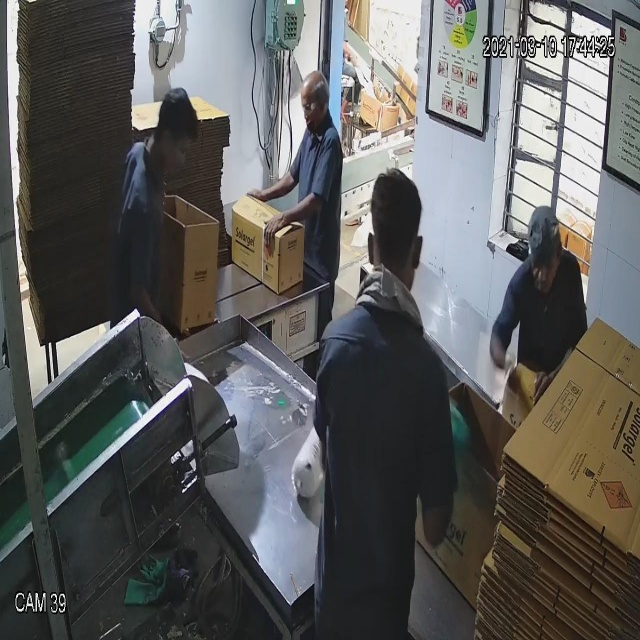Sin_guantes: (260, 203, 327, 256), (241, 165, 305, 210), (486, 332, 513, 392)
